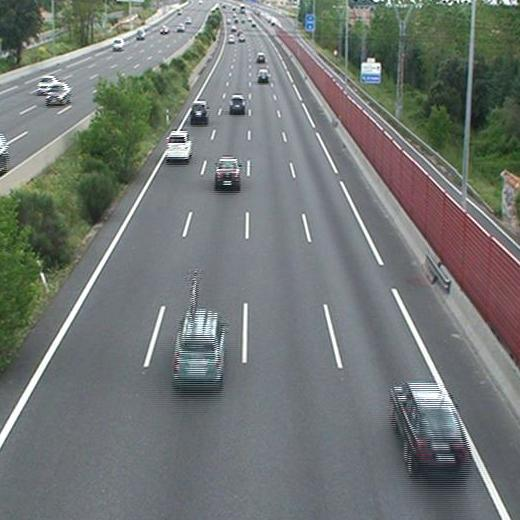car: (391, 385, 468, 470), (173, 311, 221, 385), (165, 132, 191, 160), (216, 158, 241, 187), (190, 102, 208, 122), (229, 95, 244, 113), (257, 70, 269, 81), (227, 35, 234, 45), (256, 53, 264, 61)
